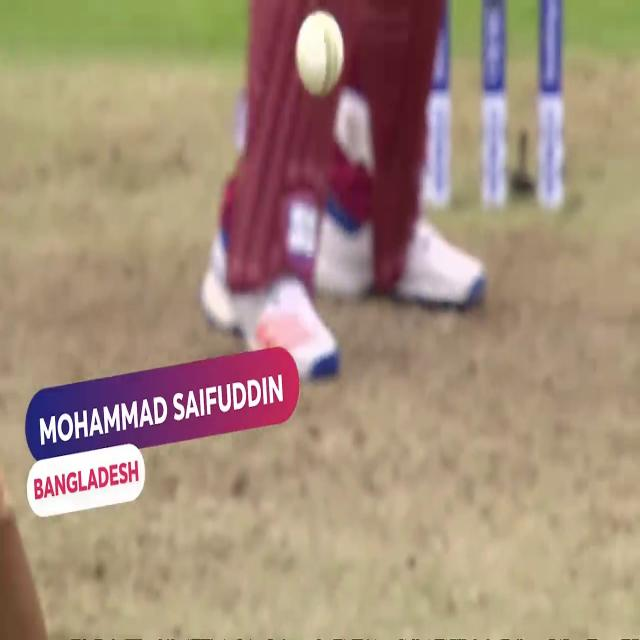ball: (290, 9, 354, 100)
